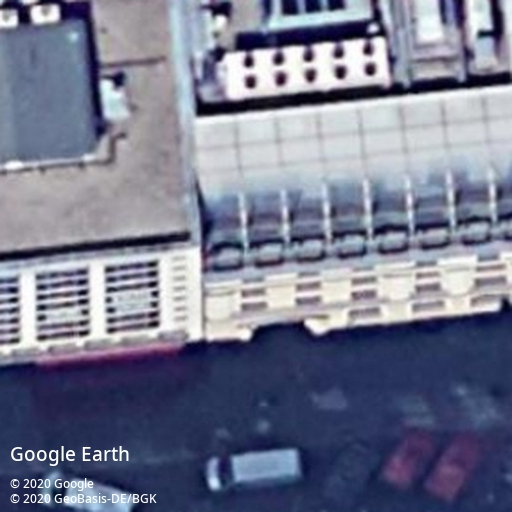Chiller: (220, 34, 396, 102)
